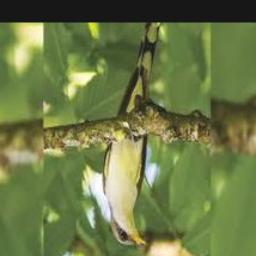Cuckoo: (103, 23, 160, 247)
